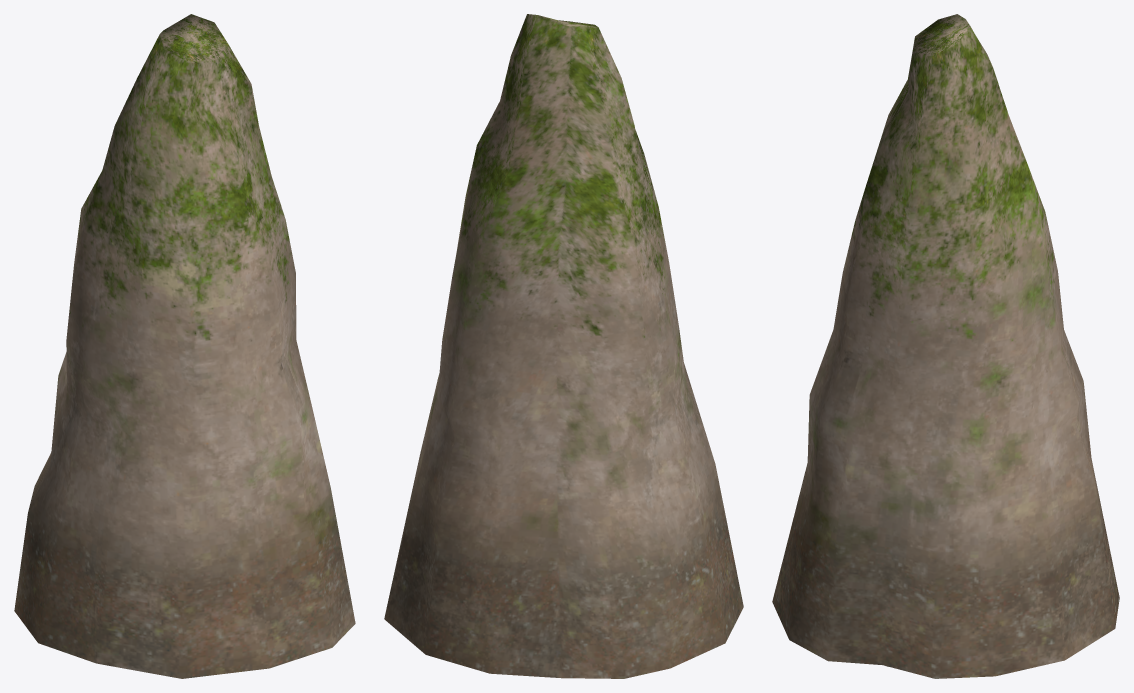
Rendered from objects_un_dlc1_slrock01.gltf.
The picture shows the model from 3 angles, left to right: view 1: azimuth 30°, elevation 25°; view 2: azimuth 150°, elevation 25°; view 3: azimuth 270°, elevation 25°; orthographic projection. The views are drawn at different scales.
Parts seen in each view (by area): view 1: um_objects_un_dlc1_slrock01_model_lod0Shape:objects_un_dlc1_; view 2: um_objects_un_dlc1_slrock01_model_lod0Shape:objects_un_dlc1_; view 3: um_objects_un_dlc1_slrock01_model_lod0Shape:objects_un_dlc1_.
Boxes of the visible parts, x1,y1,x2,y2 form: um_objects_un_dlc1_slrock01_model_lod0Shape:objects_un_dlc1_: (14,14,355,678); um_objects_un_dlc1_slrock01_model_lod0Shape:objects_un_dlc1_: (384,14,743,678); um_objects_un_dlc1_slrock01_model_lod0Shape:objects_un_dlc1_: (772,14,1119,678).
Size of what is drawn, in the model's own units: 4.95 by 9.18 by 4.9.
2 materials, 1 textured.
